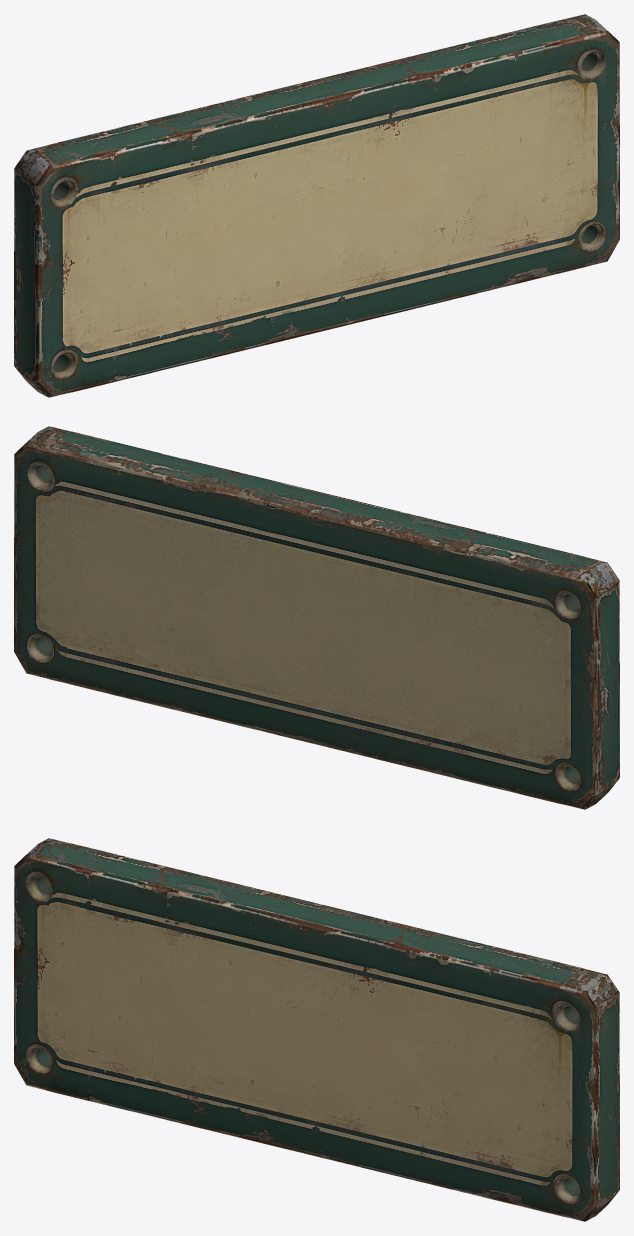
The model's file is P50_delivery_wall_sign_Runtime_1k.glb.
3 renders of one model, top to bottom at view 1: azimuth 30°, elevation 25°; view 2: azimuth 150°, elevation 25°; view 3: azimuth 330°, elevation 25°, orthographic.
Parts seen in each view (by area): view 1: tripo_node_11a1539b; view 2: tripo_node_11a1539b; view 3: tripo_node_11a1539b.
Part boxes in pixels (bbox=[...]): tripo_node_11a1539b: bbox=[14, 14, 619, 397]; tripo_node_11a1539b: bbox=[14, 426, 619, 809]; tripo_node_11a1539b: bbox=[14, 838, 619, 1221].
Size of the model in its own units: 0.7 by 0.2691 by 0.0523.
Materials: 1 (1 with a texture image).
